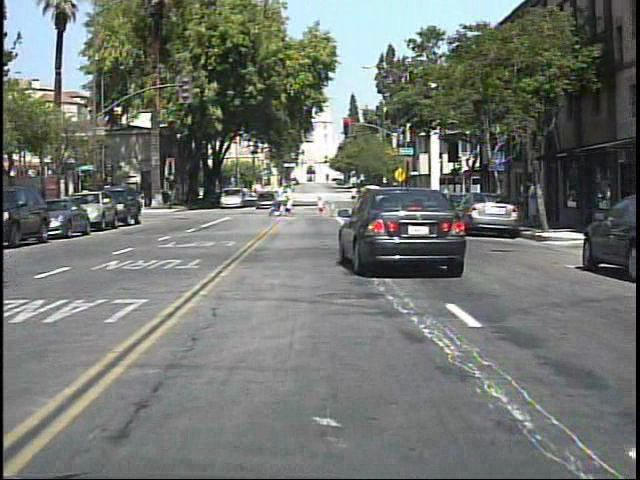person: (519, 174, 544, 230), (284, 183, 301, 221), (140, 188, 149, 213)
